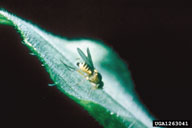Trifoli: (65, 49, 109, 92)
